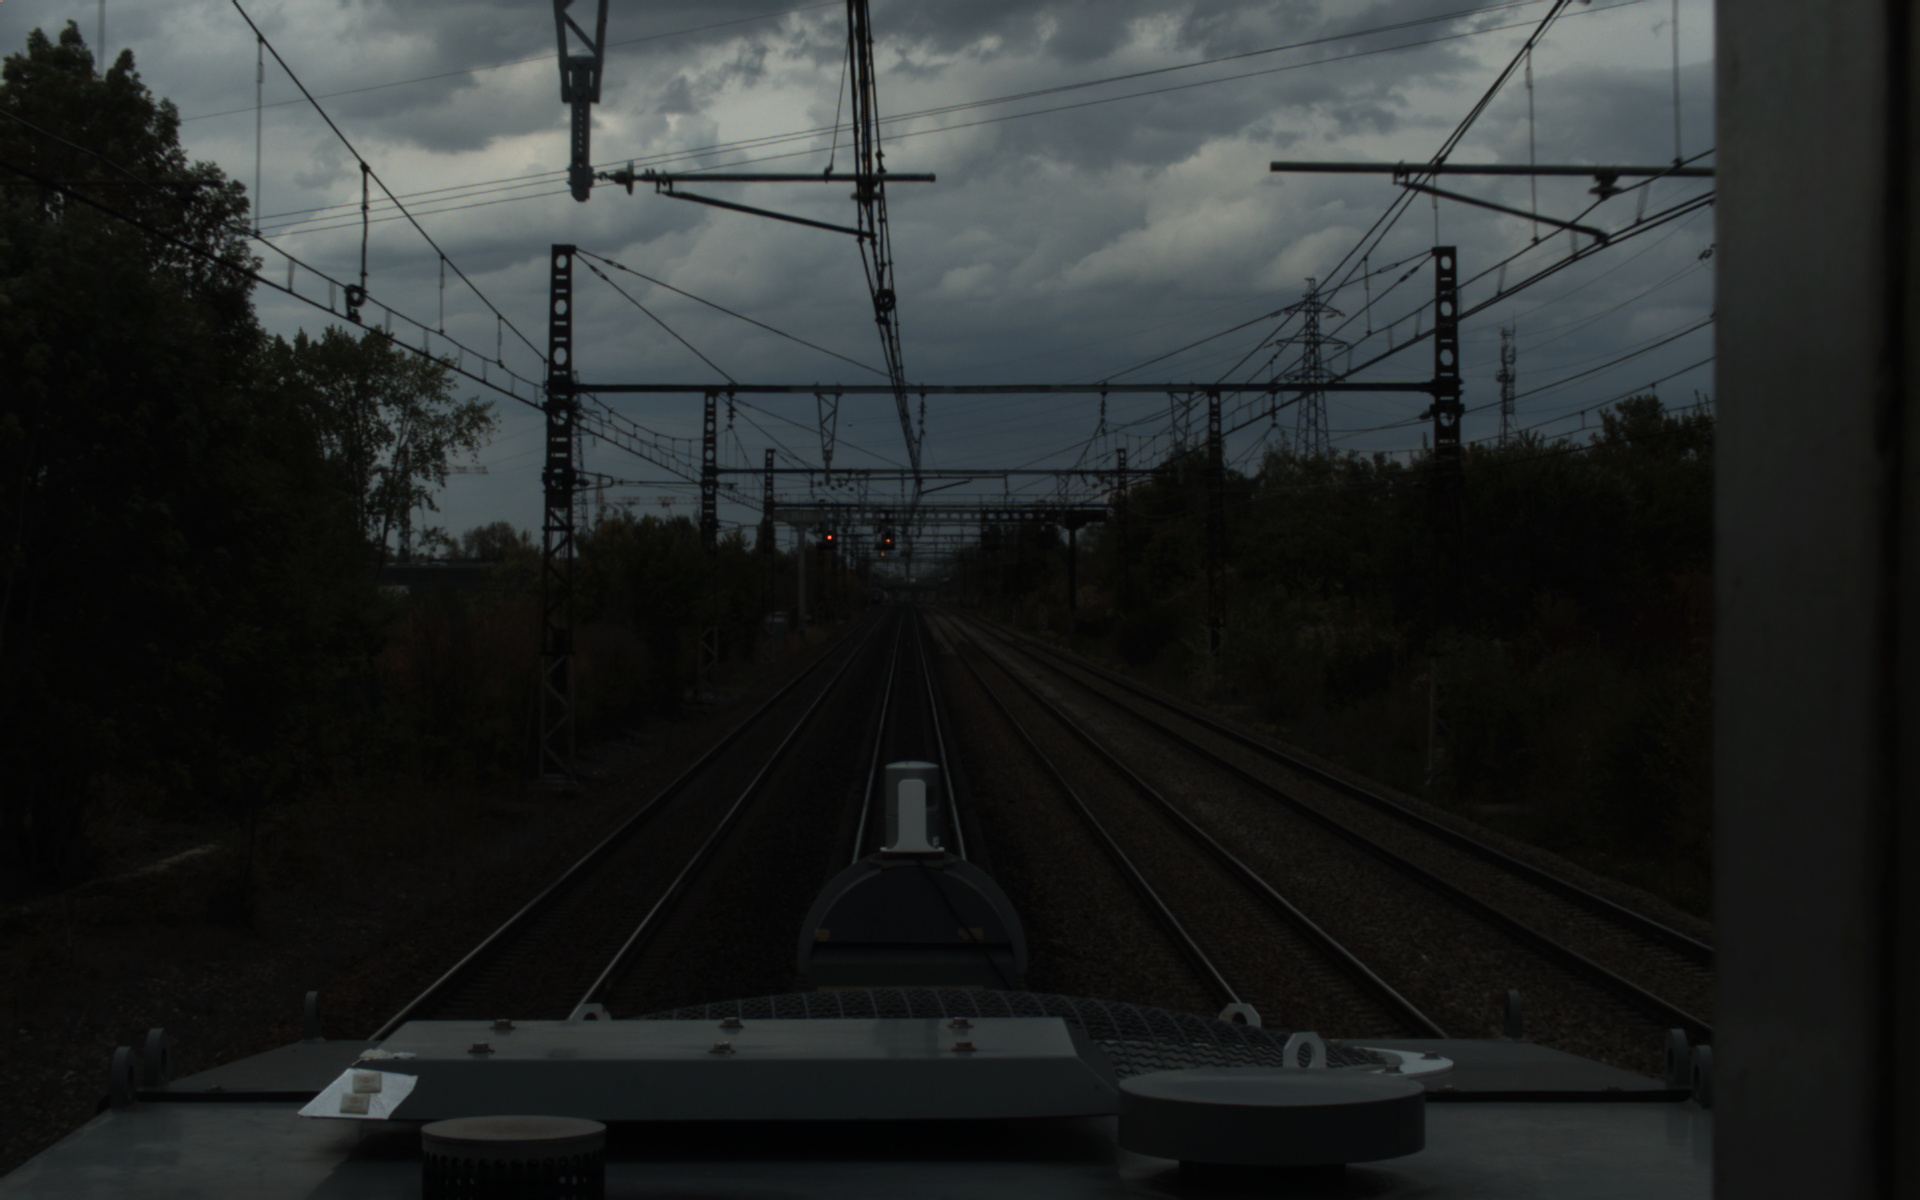Blinking: (881, 528, 894, 549)
Fixed: (822, 528, 838, 549)
